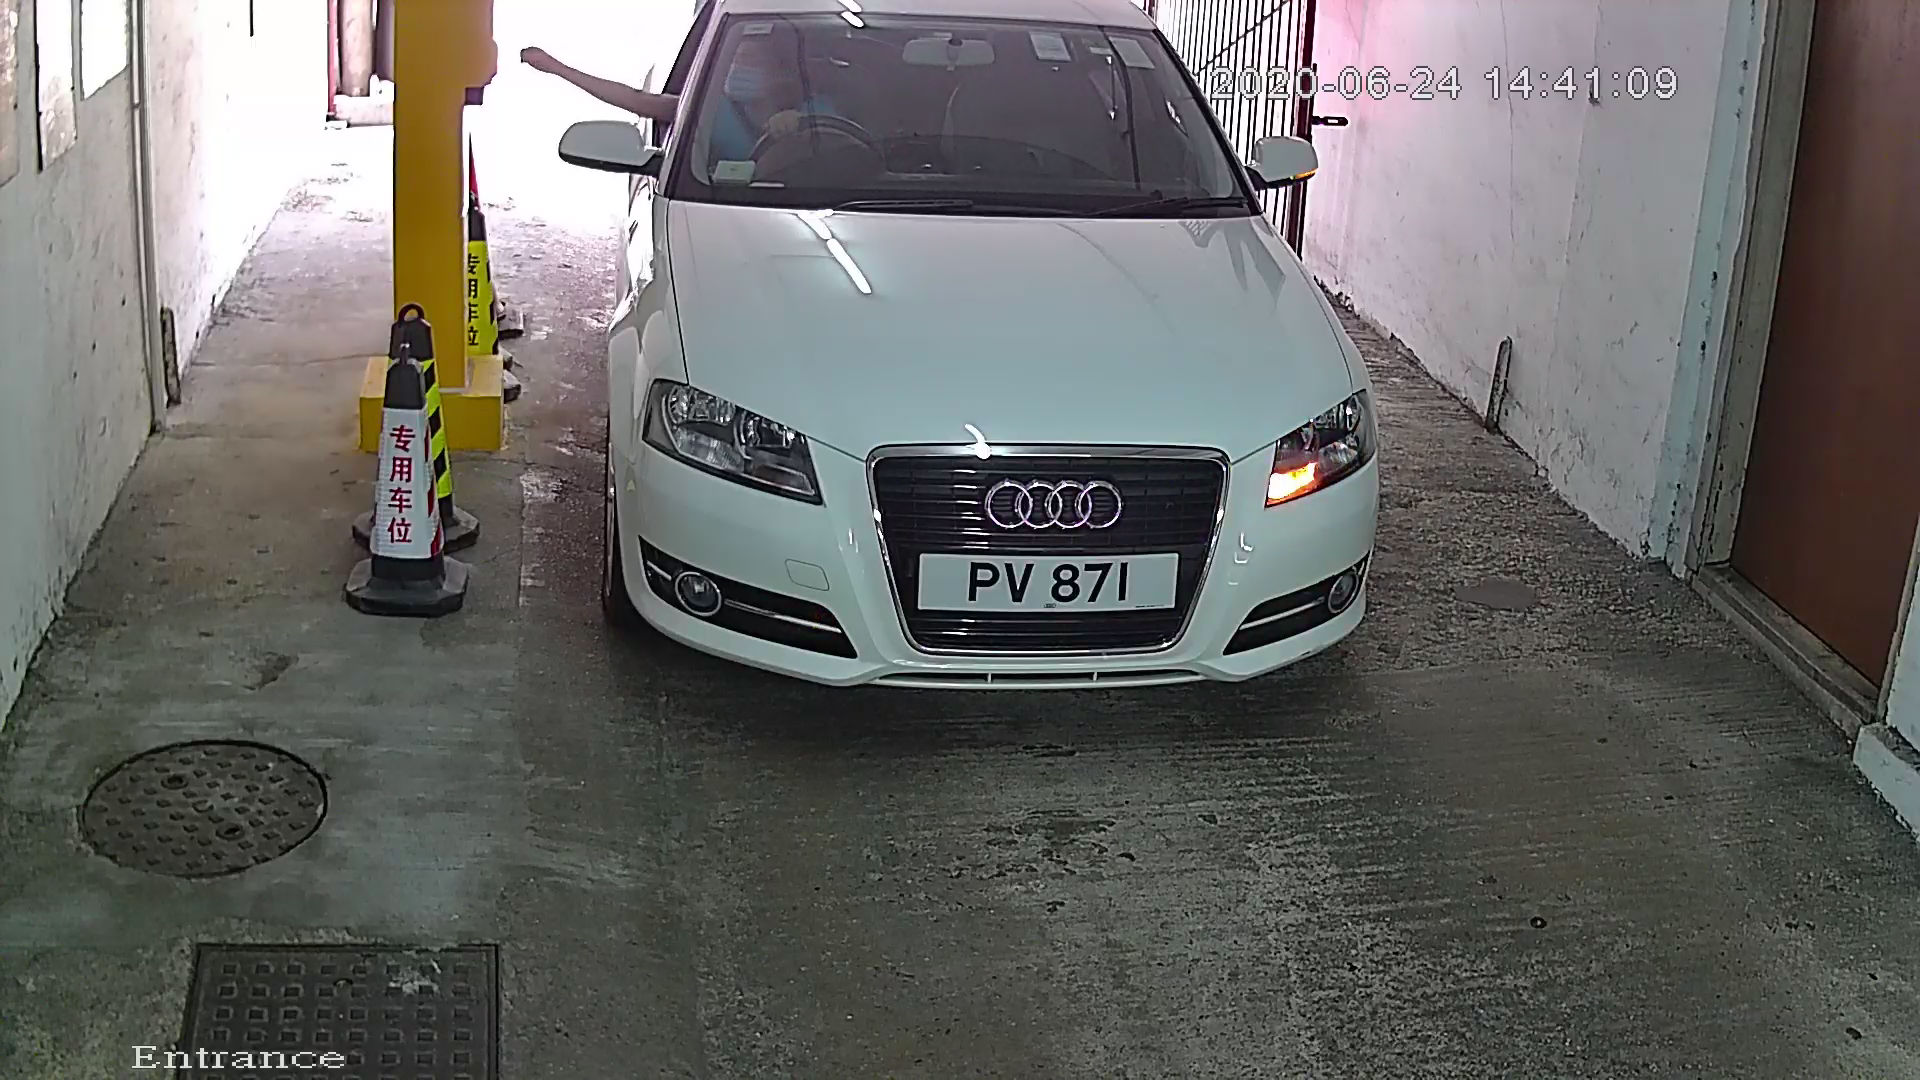Car: (530, 1, 1386, 762)
License Plate: (896, 537, 1203, 632)
